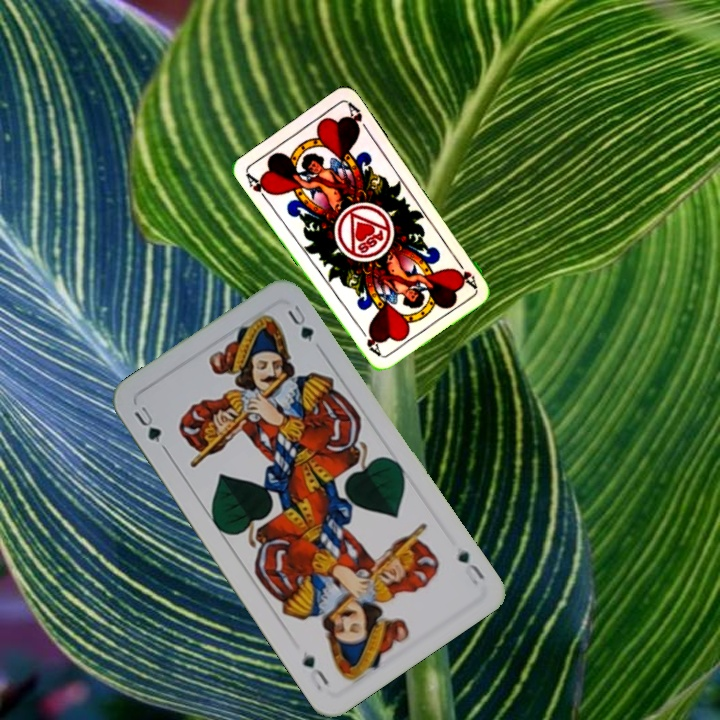GU: (129, 402, 164, 446), (453, 545, 487, 588)
HA: (242, 169, 275, 205), (450, 254, 479, 291)
